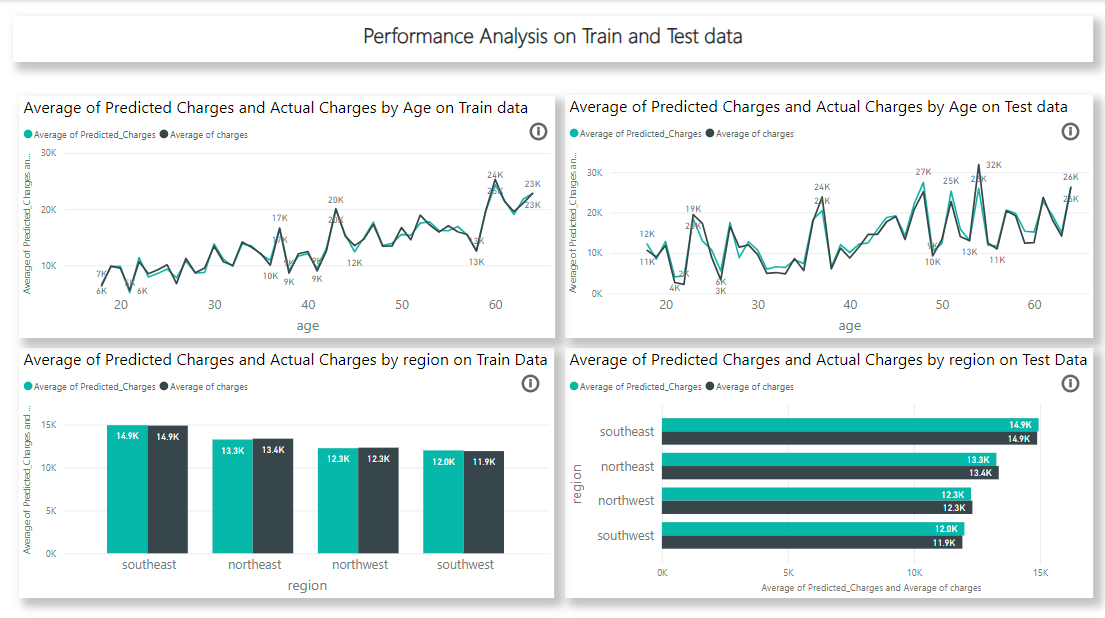

The page's visual inventory and layout, read from the dashboard file:
{"tool":"powerbi","page":{"name":"Performance Analysis on train and test data","canvas":[1280,720],"ordinal":3},"visuals":[{"type":"lineChart","title":"Average of Predicted Charges and Actual Charges by Age on Train data","fields":{"Y":["Avg(insurance train.Predicted_Charges)","Avg(insurance train.charges)"],"Category":["insurance train.age"]},"box":[22,111,619.8,279.8],"z":0},{"type":"lineChart","title":"Average of Predicted Charges and Actual Charges by Age on Test data","fields":{"Category":["insurance test.age"],"Y":["Avg(insurance test.Predicted_Charges)","Avg(insurance test.charges)"]},"box":[653.3,109.8,610.5,281],"z":1000},{"type":"clusteredColumnChart","title":"Average of Predicted Charges and Actual Charges by region on Train Data","fields":{"Category":["insurance train.region"],"Y":["Avg(insurance train.Predicted_Charges)","Avg(insurance train.charges)"]},"box":[22,402.4,618.6,289.1],"z":2000},{"type":"clusteredBarChart","title":"Average of Predicted Charges and Actual Charges by region on Test Data","fields":{"Category":["insurance train.region"],"Y":["Avg(insurance train.Predicted_Charges)","Avg(insurance train.charges)"]},"box":[653.3,402.4,610.5,289.1],"z":3000},{"type":"actionButton","box":[608.2,137.6,32.4,28.9],"z":4000},{"type":"actionButton","box":[1223.3,137.6,32.4,28.9],"z":5000},{"type":"actionButton","box":[599,429,32.4,28.9],"z":6000},{"type":"actionButton","box":[1223.3,429,32.4,28.9],"z":7000},{"type":"textbox","box":[15,18.5,1248.8,53.2],"z":7001}]}

Visuals, with their boxes in screenshot pixels (x1, y1, x2, y2), scaled from the page's 1280x720 canvas onto the 1105x618 screenshot:
"Average of Predicted Charges and Actual Charges by Age on Train data" lineChart: x1=19 y1=95 x2=554 y2=335
"Average of Predicted Charges and Actual Charges by Age on Test data" lineChart: x1=564 y1=94 x2=1091 y2=335
"Average of Predicted Charges and Actual Charges by region on Train Data" clusteredColumnChart: x1=19 y1=345 x2=553 y2=594
"Average of Predicted Charges and Actual Charges by region on Test Data" clusteredBarChart: x1=564 y1=345 x2=1091 y2=594
actionButton: x1=525 y1=118 x2=553 y2=143
actionButton: x1=1056 y1=118 x2=1084 y2=143
actionButton: x1=517 y1=368 x2=545 y2=393
actionButton: x1=1056 y1=368 x2=1084 y2=393
textbox: x1=13 y1=16 x2=1091 y2=62
